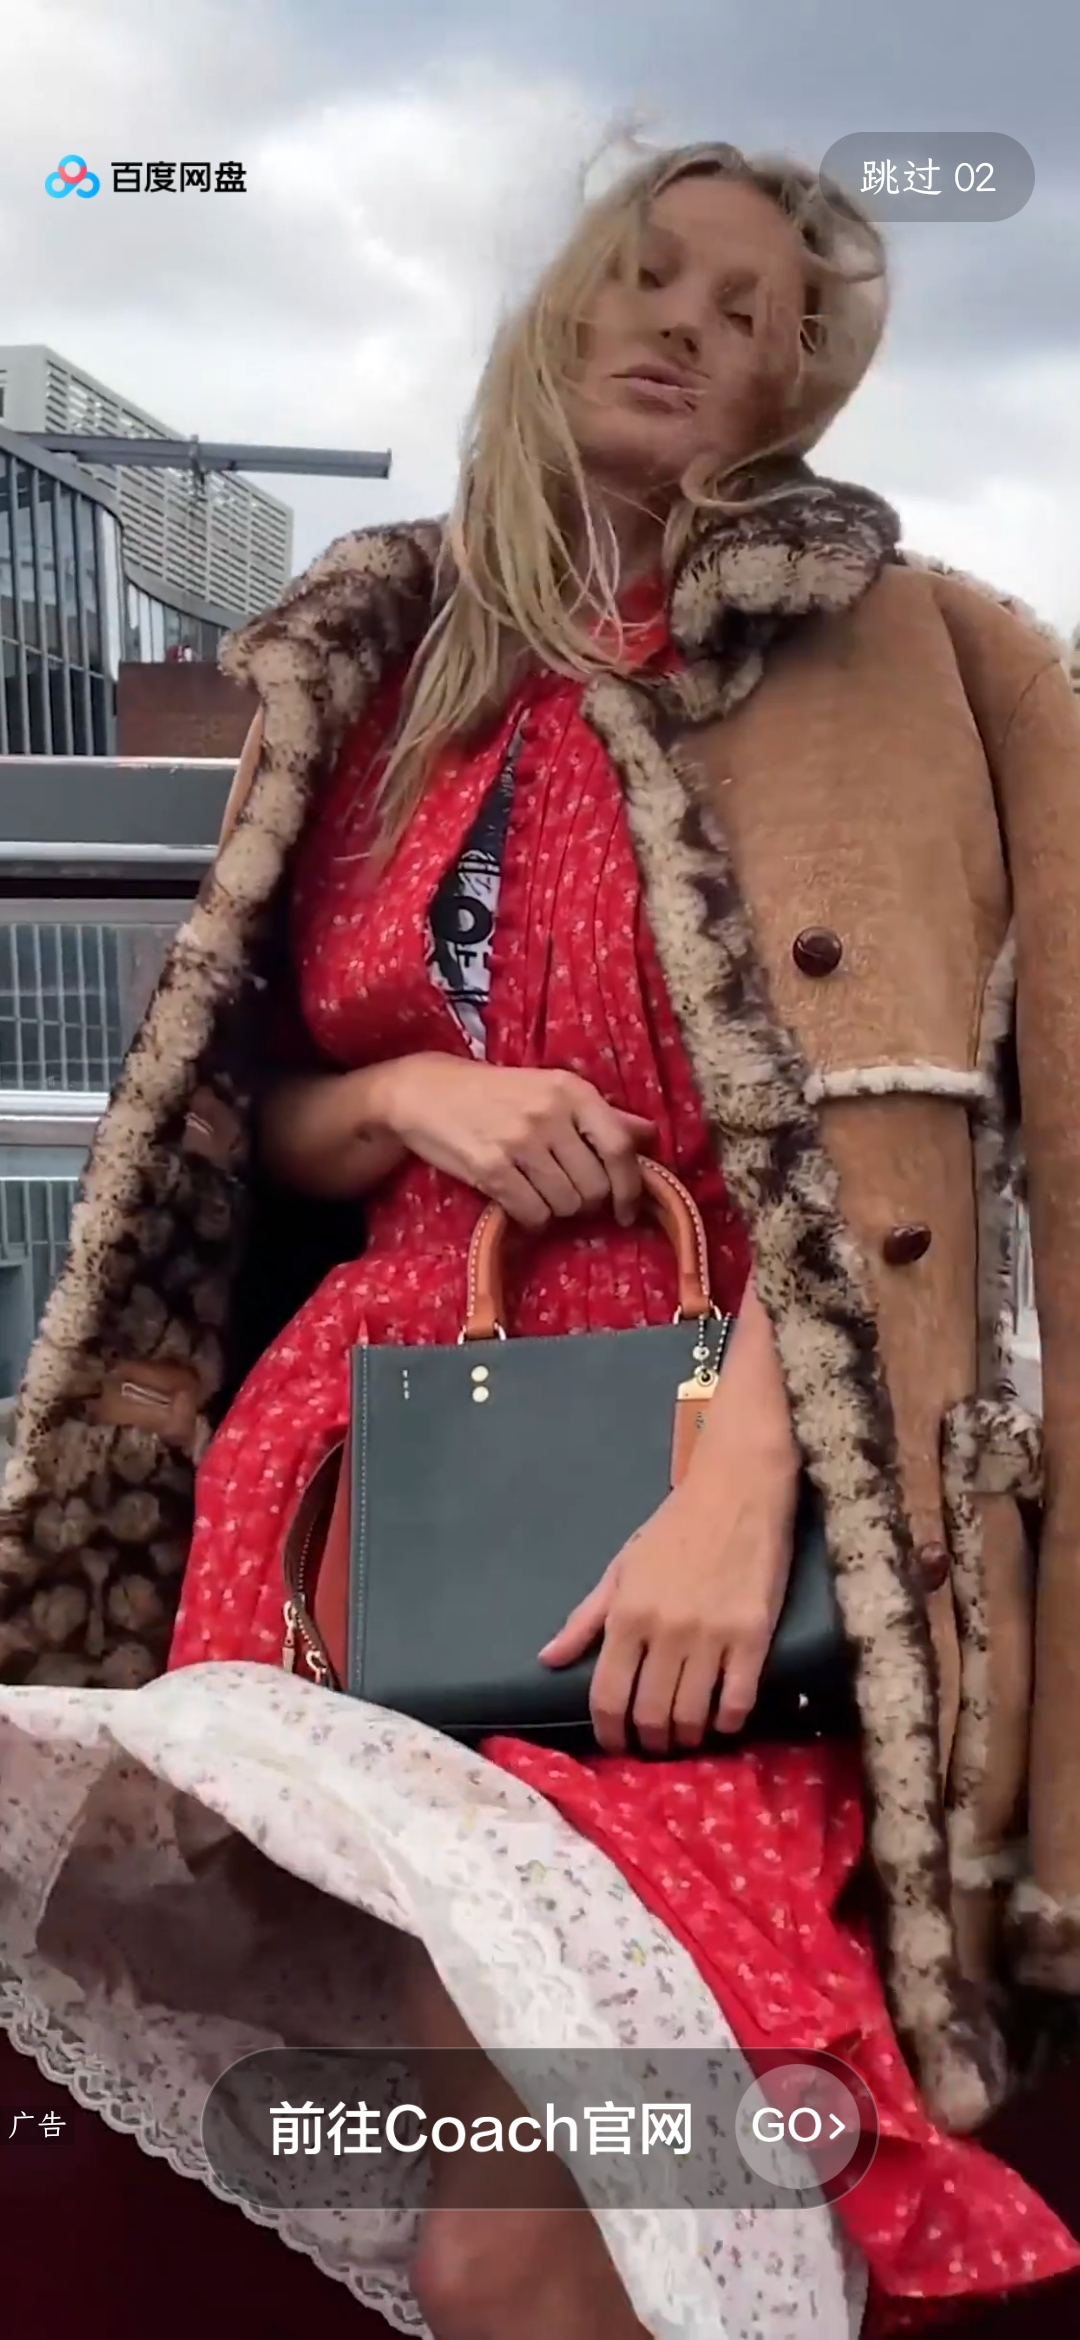skip: (832, 140, 1023, 215)
